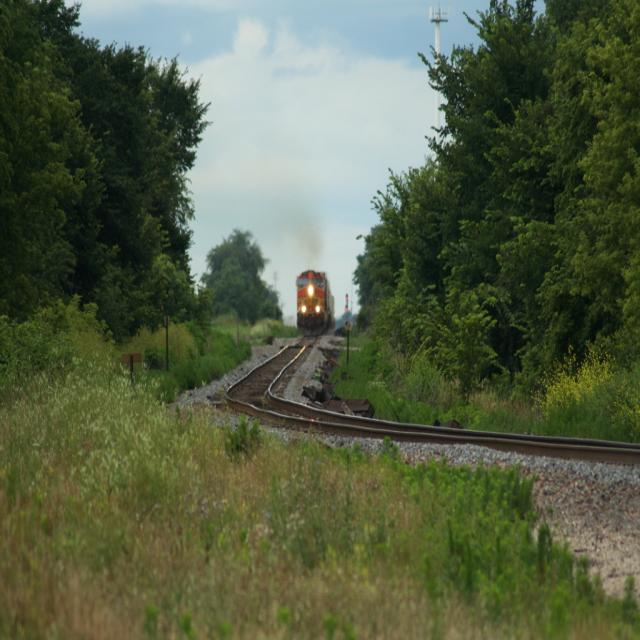locomotive: (292, 262, 329, 342)
